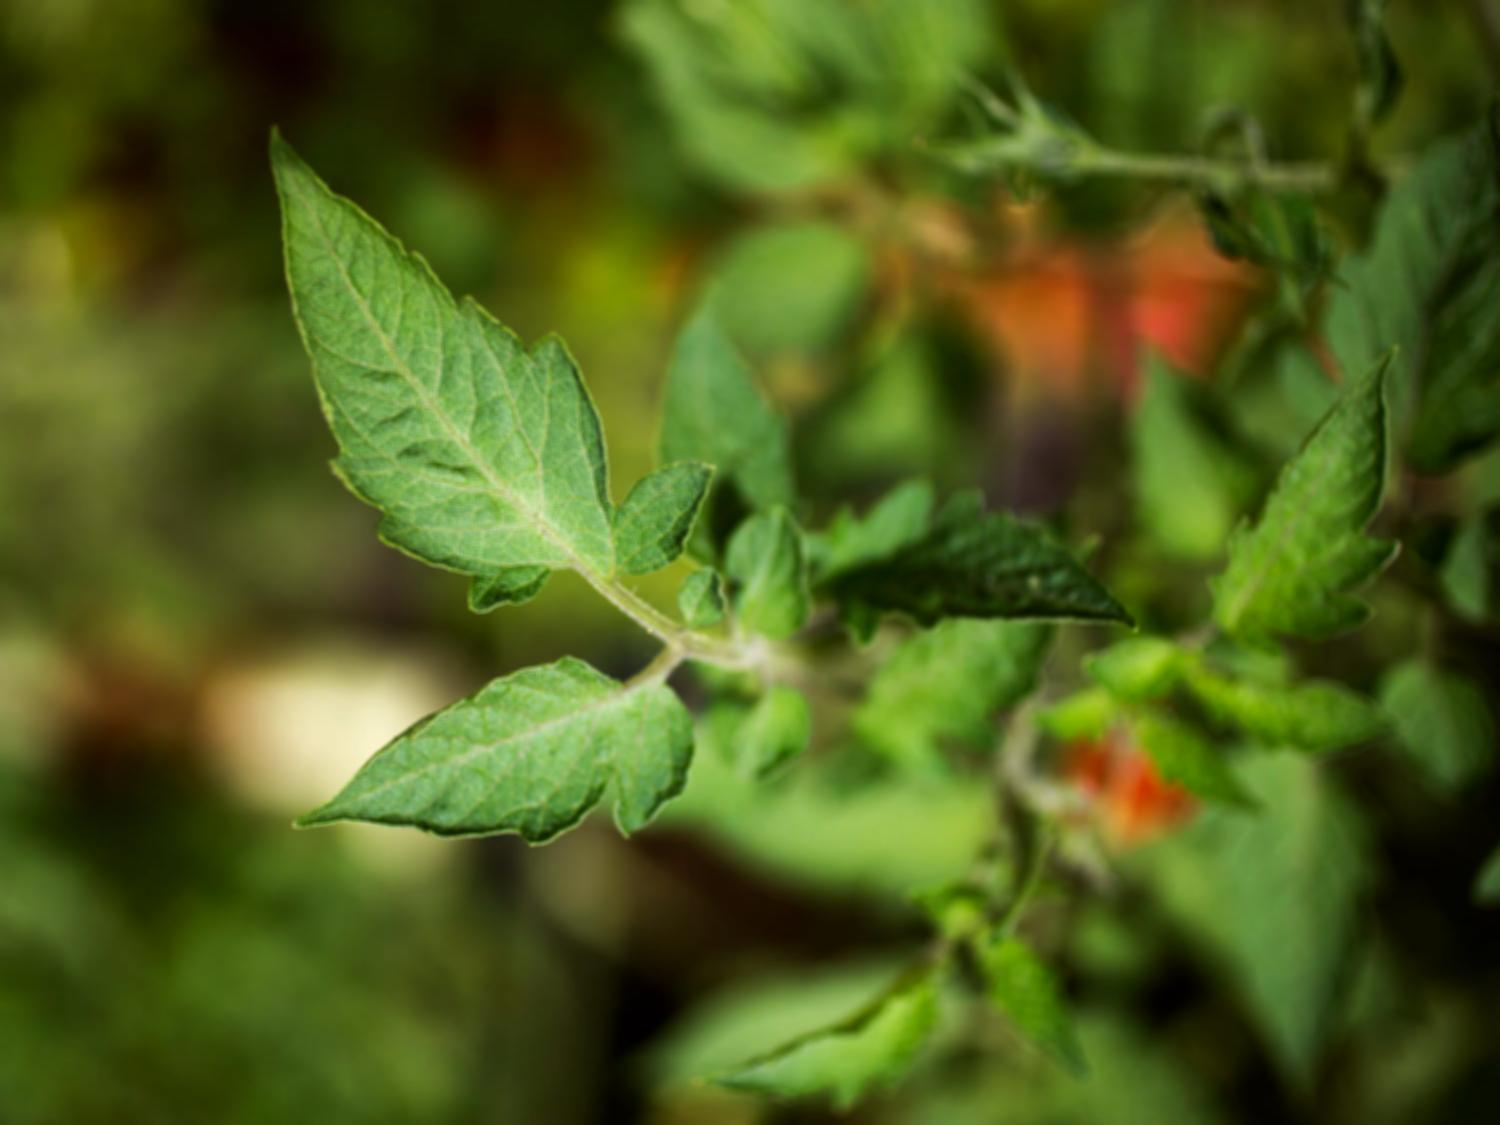Tomato leaf: (211, 87, 652, 609), (237, 653, 743, 867)
